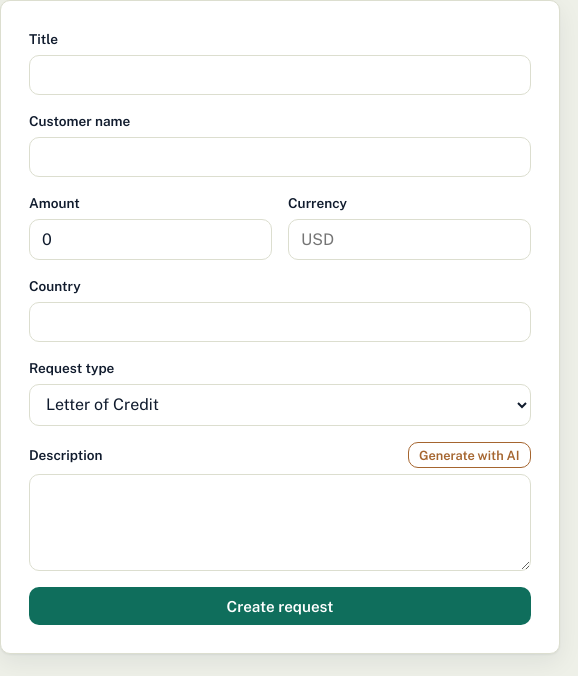
<TradeForm /> › fills the description field when AI generation succeeds
Type "Import shipment financing" into the field labelled "Title".
click(280, 75); type("Import shipment financing")  # box x1=29 y1=55 x2=531 y2=95
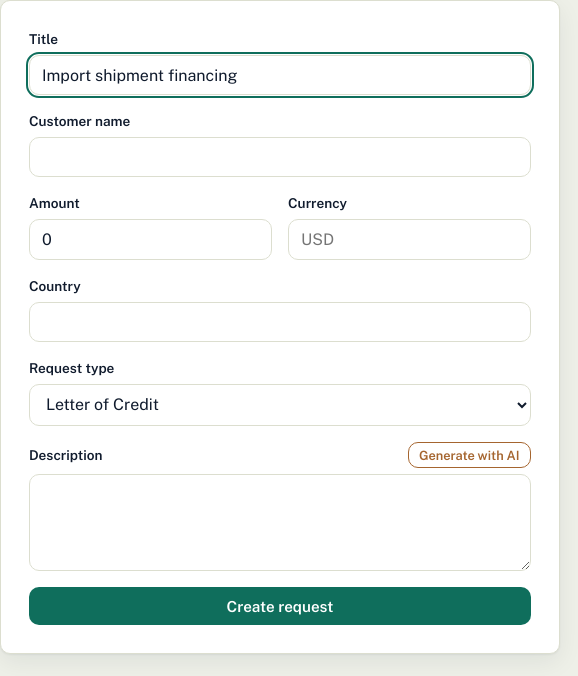
Click the button "Generate with AI".
click(469, 455)  # box x1=408 y1=442 x2=531 y2=468
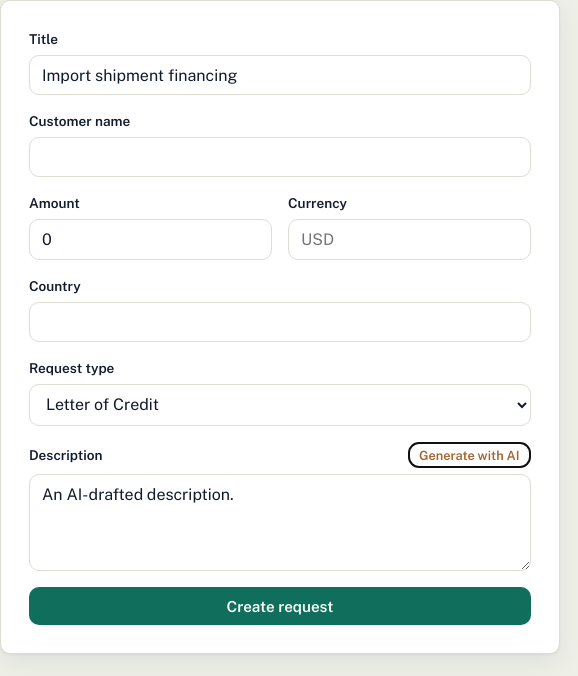
Expected: the text box showing "An AI-drafted description." is shown, x1=29 y1=474 x2=531 y2=571
